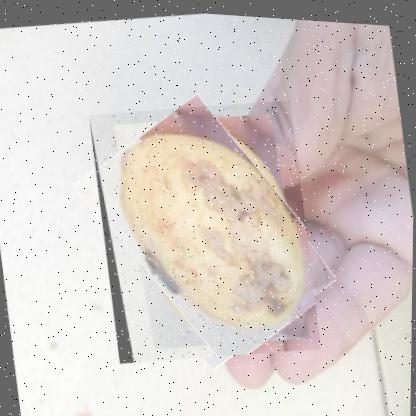guava_rotten: (86, 84, 326, 372)
